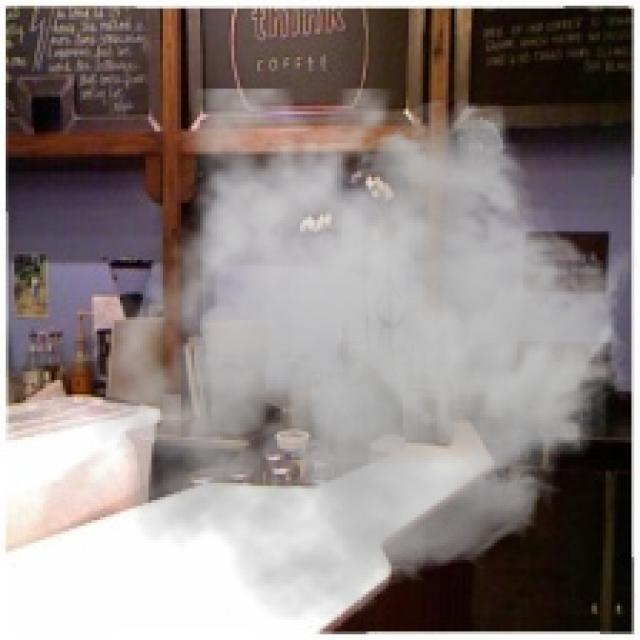smoke: (92, 89, 637, 626)
